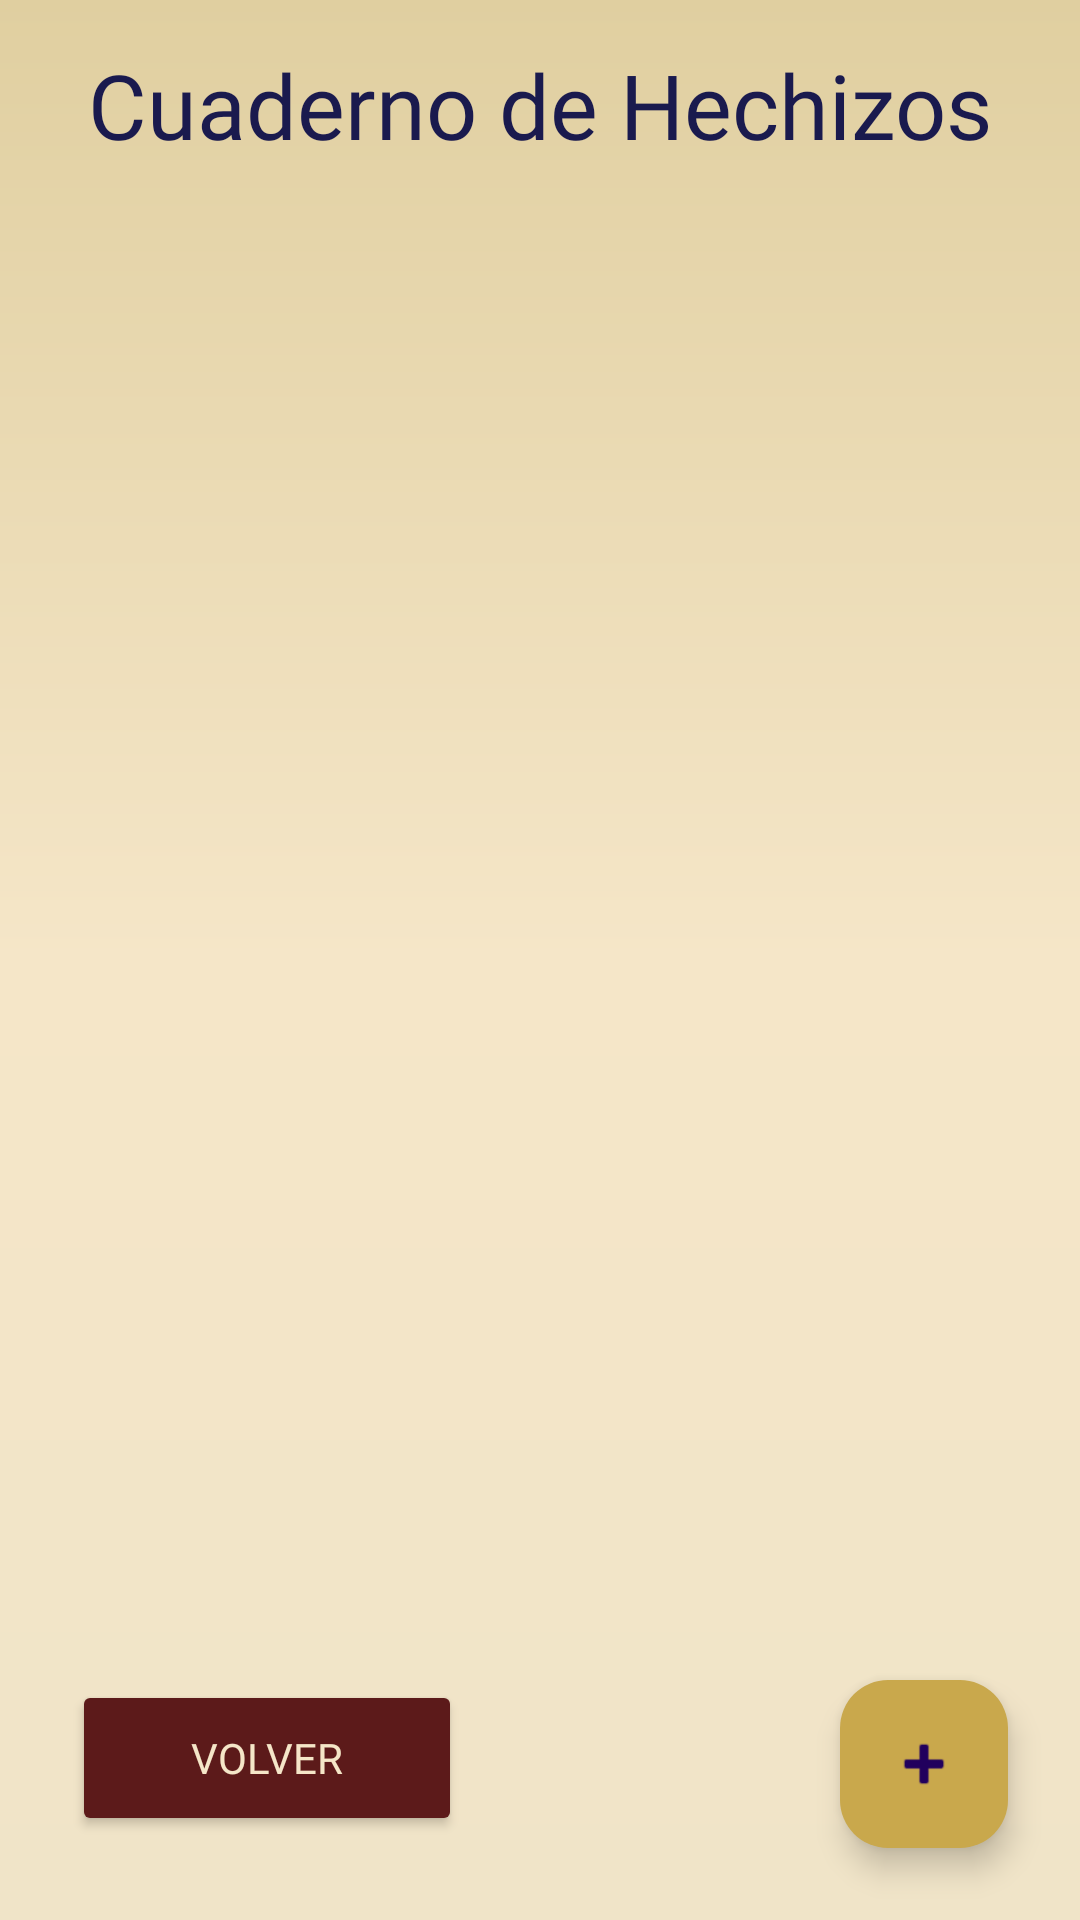

Named icons in this screenshot (1080w x 1920h) and their bounding boxes, (x1, y1, x2, y2):
Agregar hechizo: (840, 1680, 1008, 1848)
